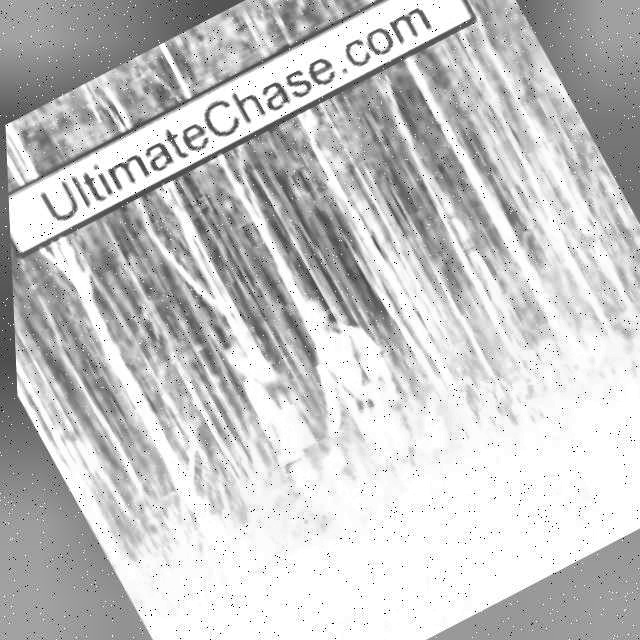Fire: (375, 371, 470, 472), (548, 312, 620, 386)
